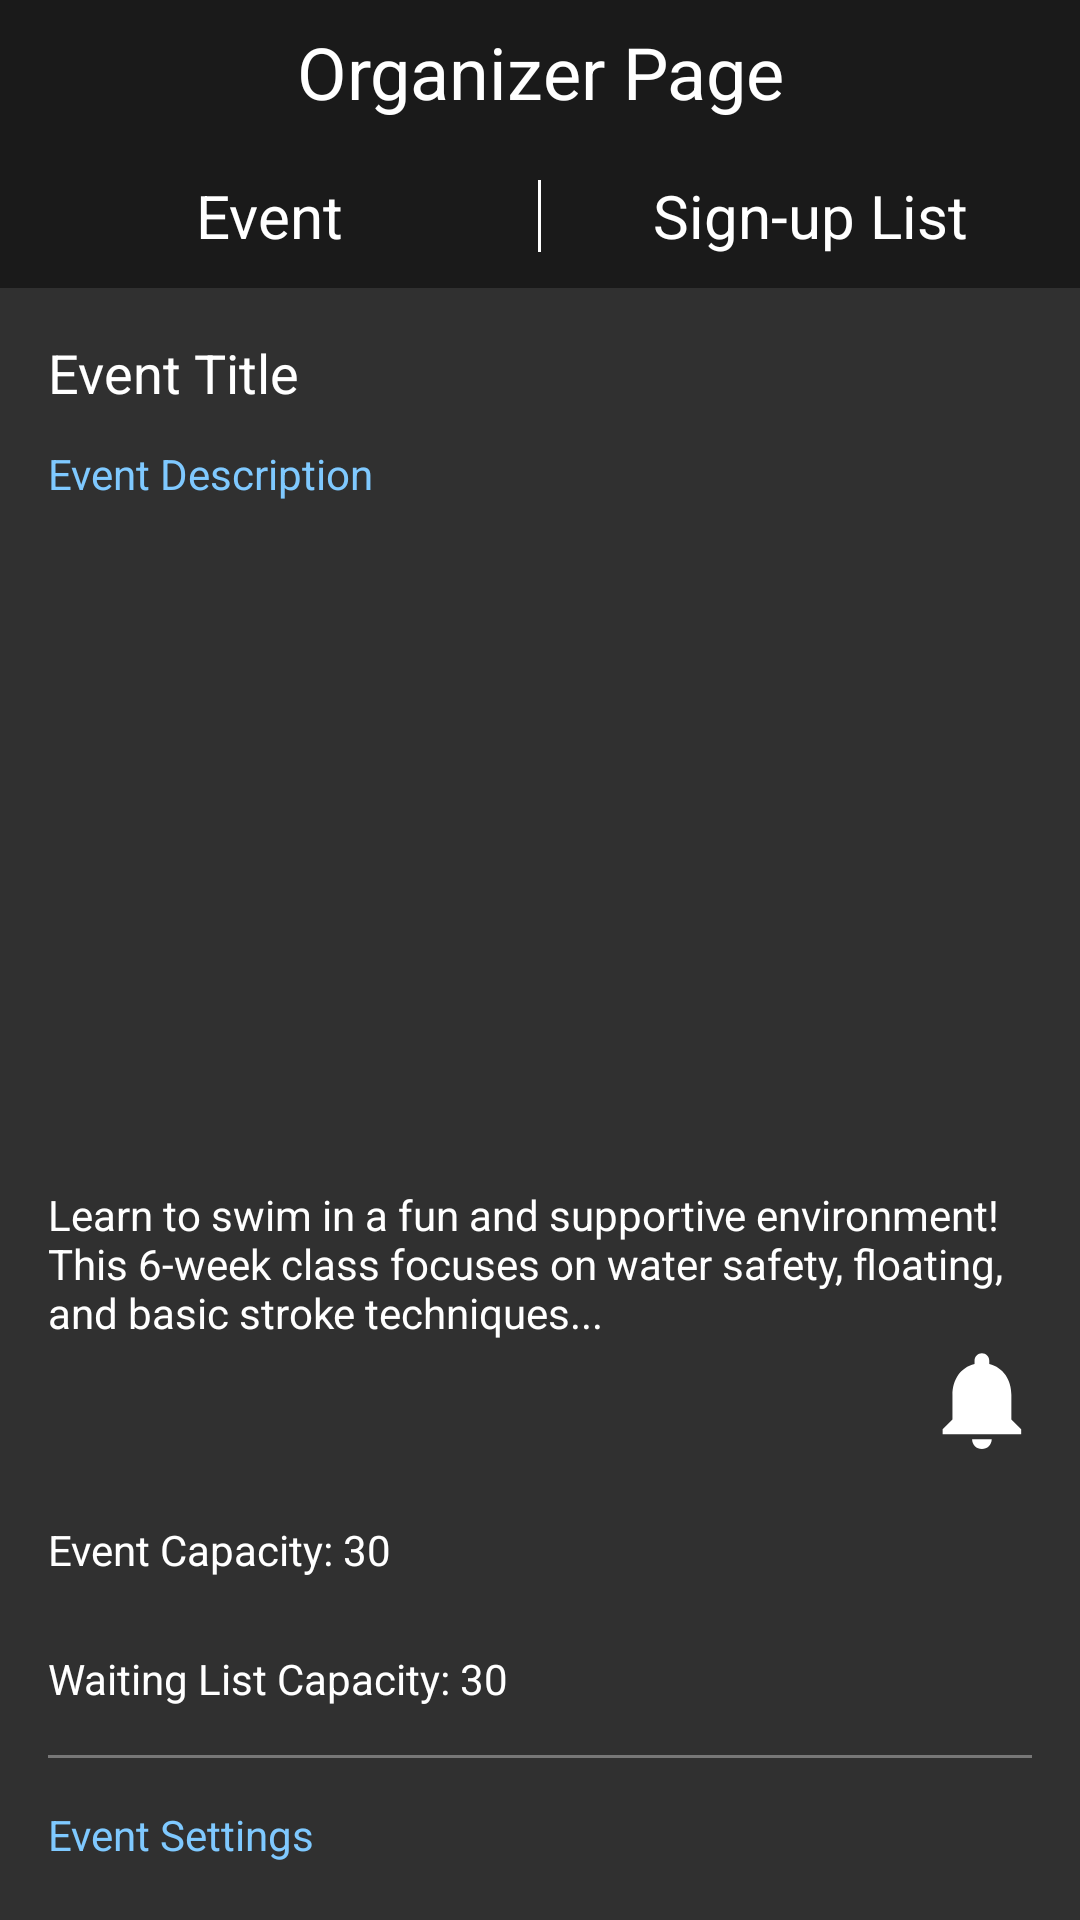

Named icons in this screenshot (1080px×1920px) and their centers, (x=x, y=y):
notification: (x=982, y=1401)
